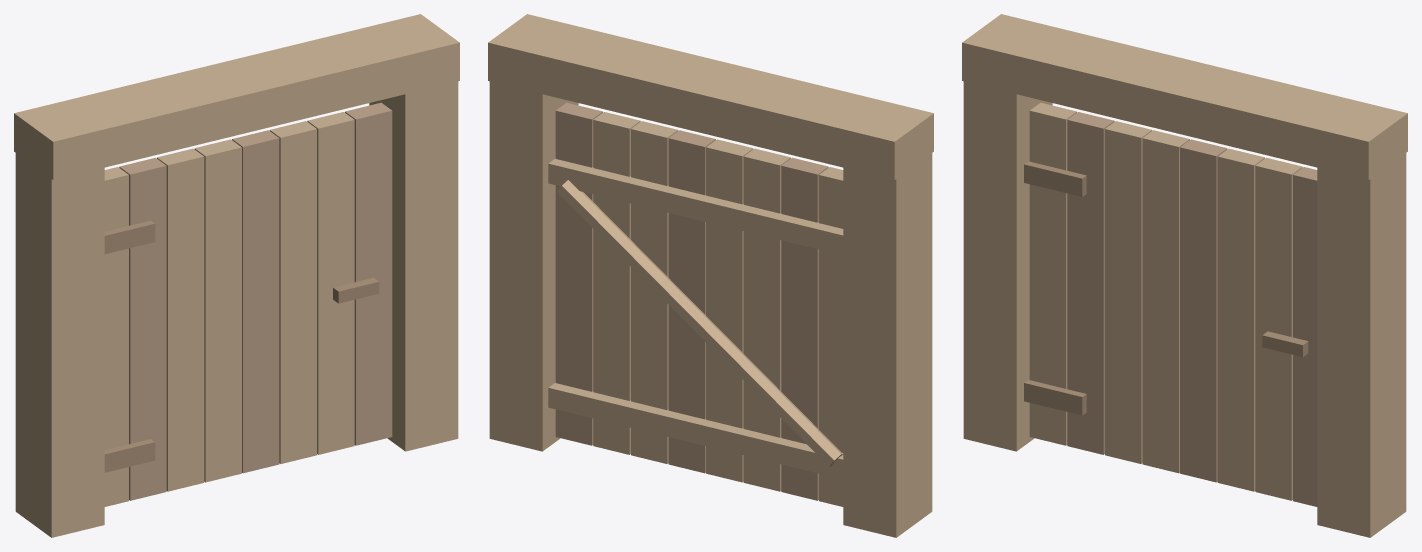
File: gate.glb
The picture shows the model from 3 angles, left to right: view 1: azimuth 30°, elevation 25°; view 2: azimuth 150°, elevation 25°; view 3: azimuth 330°, elevation 25°; orthographic projection.
Visible parts, largest first — view 1: Gate_Lintel, Gate_Post_L, Gate_Post_R, Gate_Plank_2, Gate_Plank_3, Gate_Plank_4, Gate_Plank_5, Gate_Plank_7, Gate_Plank_6, Gate_Plank_1, Gate_Plank_0, Gate_Hinge_Lower (+2 smaller); view 2: Gate_Lintel, Gate_Post_L, Gate_Post_R, Gate_Plank_7, Gate_Plank_2, Gate_Plank_1, Gate_Plank_3, Gate_Plank_5, Gate_Plank_6, Gate_Plank_4, Gate_Rail_Upper, Gate_Rail_Lower (+2 smaller); view 3: Gate_Post_R, Gate_Lintel, Gate_Post_L, Gate_Plank_5, Gate_Plank_4, Gate_Plank_2, Gate_Plank_3, Gate_Plank_6, Gate_Plank_1, Gate_Plank_0, Gate_Plank_7, Gate_Hinge_Upper (+2 smaller).
Part boxes in pixels (<box>): Gate_Lintel: <box>14,14,459,179</box>; Gate_Post_L: <box>15,133,104,537</box>; Gate_Post_R: <box>369,81,458,451</box>; Gate_Plank_2: <box>157,148,204,491</box>; Gate_Plank_3: <box>194,139,241,482</box>; Gate_Plank_4: <box>232,130,279,473</box>; Gate_Plank_5: <box>269,121,316,463</box>; Gate_Plank_7: <box>345,102,392,445</box>; Gate_Plank_6: <box>307,112,354,454</box>; Gate_Plank_1: <box>119,157,166,500</box>; Gate_Plank_0: <box>104,167,128,506</box>; Gate_Hinge_Lower: <box>104,439,155,472</box>; Gate_Lintel: <box>488,14,933,179</box>; Gate_Post_L: <box>843,132,932,537</box>; Gate_Post_R: <box>489,81,578,451</box>; Gate_Plank_7: <box>555,102,602,445</box>; Gate_Plank_2: <box>743,148,790,491</box>; Gate_Plank_1: <box>781,157,828,500</box>; Gate_Plank_3: <box>706,139,753,482</box>; Gate_Plank_5: <box>631,121,678,463</box>; Gate_Plank_6: <box>593,112,640,454</box>; Gate_Plank_4: <box>668,130,715,473</box>; Gate_Rail_Upper: <box>548,158,843,255</box>; Gate_Rail_Lower: <box>548,382,843,479</box>; Gate_Post_R: <box>1317,129,1406,537</box>; Gate_Lintel: <box>962,14,1407,179</box>; Gate_Post_L: <box>963,81,1052,451</box>; Gate_Plank_5: <box>1217,148,1264,491</box>; Gate_Plank_4: <box>1180,139,1227,482</box>; Gate_Plank_2: <box>1105,121,1152,463</box>; Gate_Plank_3: <box>1142,130,1189,473</box>; Gate_Plank_6: <box>1255,157,1302,500</box>; Gate_Plank_1: <box>1067,112,1114,454</box>; Gate_Plank_0: <box>1029,102,1076,445</box>; Gate_Plank_7: <box>1293,167,1317,506</box>; Gate_Hinge_Upper: <box>1024,161,1086,196</box>.
Bounding box in the file's own units: 1 × 0.9333 × 0.1667.
